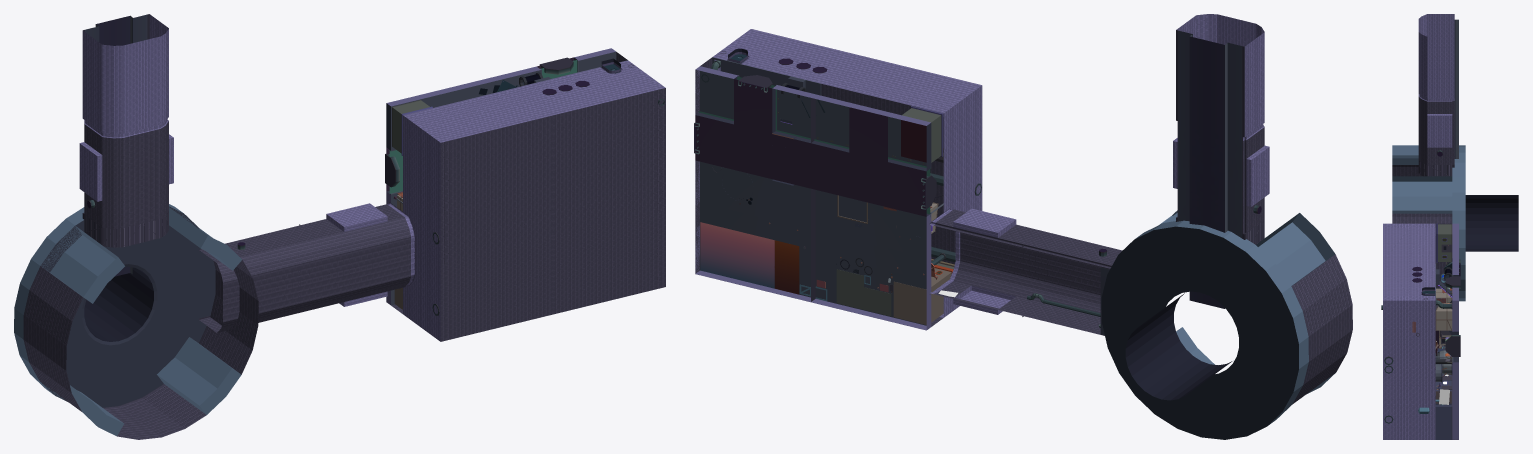
File: INT_ThievesDen.fbx
3 renders of one model, left to right at view 1: azimuth 30°, elevation 25°; view 2: azimuth 150°, elevation 25°; view 3: azimuth 270°, elevation 25°, orthographic. The views are drawn at different scales.
Visible parts, largest first — view 1: Walls.001, Cylinder.003, TunnelWall_Indentation2.003, TunnelWall_Indentation2.002, CornerHome.002; view 2: Walls.001, Cylinder.003, TunnelWall_Indentation2.003, TunnelWall_Indentation2.002, Fixit, CornerHome, CornerHome.002, BuildingTall, Platform.005; view 3: Walls.001, Cylinder.003, TunnelWall_Indentation2.003, Fixit, CornerHome.002, SmallHome05, PumpHouse, WaterHole, SmallHome01, WaterHole.002, Plane.195.
Boxes of the visible parts, bbox=[...] form: Walls.001: bbox=[386, 48, 665, 341]; Cylinder.003: bbox=[14, 204, 258, 439]; TunnelWall_Indentation2.003: bbox=[79, 14, 173, 276]; TunnelWall_Indentation2.002: bbox=[199, 202, 415, 332]; CornerHome.002: bbox=[392, 100, 432, 155]; Walls.001: bbox=[695, 29, 982, 330]; Cylinder.003: bbox=[1101, 210, 1352, 439]; TunnelWall_Indentation2.003: bbox=[1173, 14, 1269, 308]; TunnelWall_Indentation2.002: bbox=[929, 208, 1122, 335]; Fixit: bbox=[700, 222, 799, 294]; CornerHome: bbox=[893, 265, 953, 324]; CornerHome.002: bbox=[901, 106, 943, 162]; BuildingTall: bbox=[836, 259, 954, 316]; Platform.005: bbox=[712, 57, 821, 95]; Walls.001: bbox=[1383, 223, 1458, 439]; Cylinder.003: bbox=[1392, 145, 1518, 301]; TunnelWall_Indentation2.003: bbox=[1418, 14, 1458, 176]; Fixit: bbox=[1435, 374, 1452, 439]; CornerHome.002: bbox=[1435, 223, 1452, 262]; SmallHome05: bbox=[1435, 303, 1452, 330]; PumpHouse: bbox=[1435, 344, 1452, 382]; WaterHole: bbox=[1445, 335, 1460, 356]; SmallHome01: bbox=[1436, 288, 1452, 303]; WaterHole.002: bbox=[1445, 276, 1460, 288]; Plane.195: bbox=[1439, 389, 1449, 404].
Bounding box in the file's own units: 12427 × 7639 × 3552.
